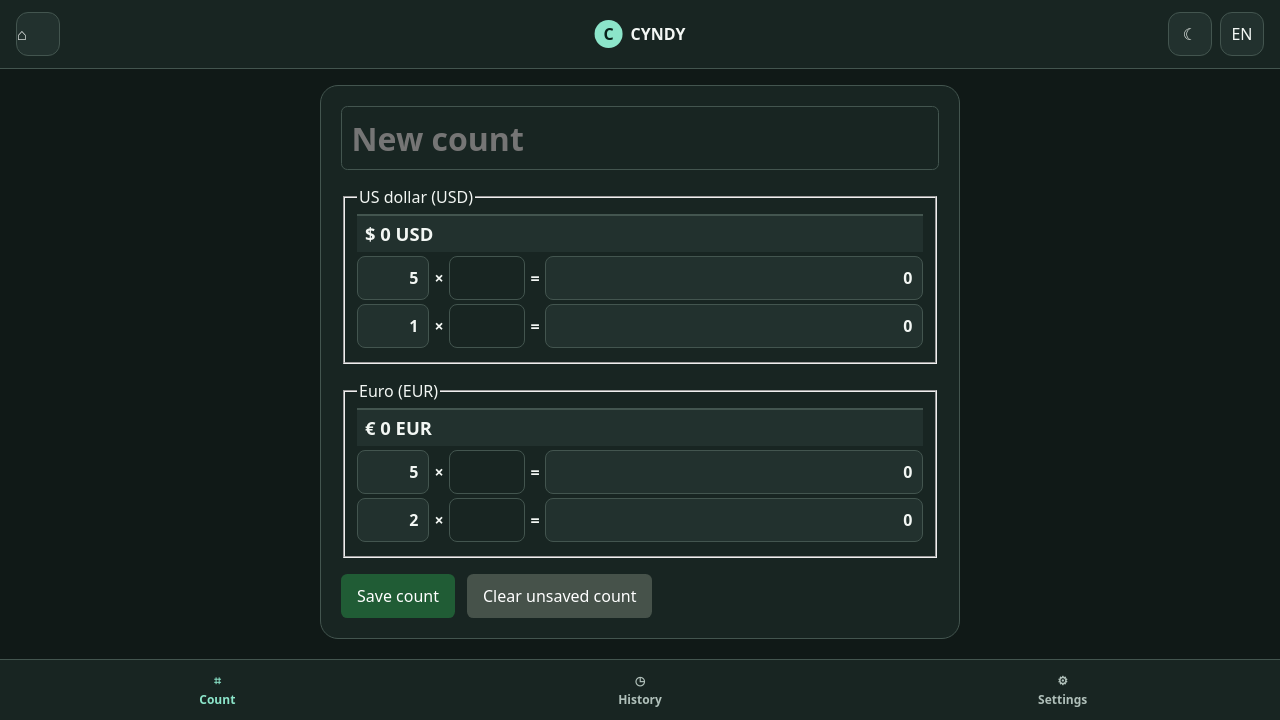
Test: new count route › renders passive fieldset-scoped totals that update independently
Check: the text "$ 0 USD" is shown, box 365,221 -> 433,246
Check: the text "€ 0 EUR" is shown, box 365,415 -> 432,440
Type "2" into the number field named "$5 quantity" at (487, 278), box 449,256 -> 525,300
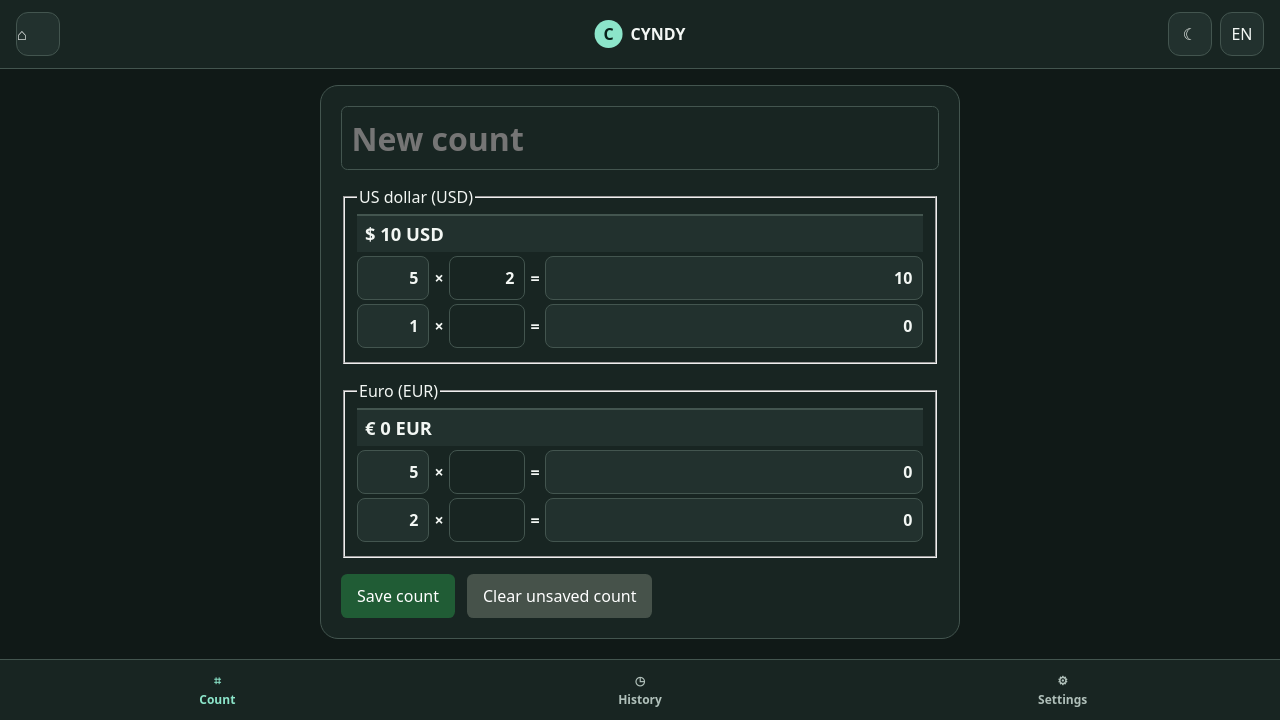
Check: the text "€ 0 EUR" is shown, box 365,415 -> 432,440
Check: the text "$ 10 USD" is shown, box 365,221 -> 444,246
